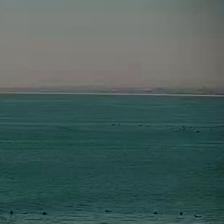surfer: (104, 209, 112, 213), (194, 215, 201, 219), (179, 211, 184, 216), (152, 211, 158, 215), (9, 210, 14, 214), (42, 212, 46, 216)
